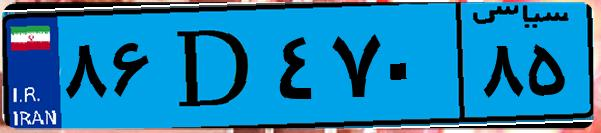0: (385, 28, 445, 110)
4: (270, 28, 330, 110)
5: (525, 38, 570, 115)
6: (110, 28, 158, 98)
7: (330, 28, 385, 110)
8: (57, 26, 110, 100), (475, 38, 525, 113)
D: (158, 12, 270, 120)
